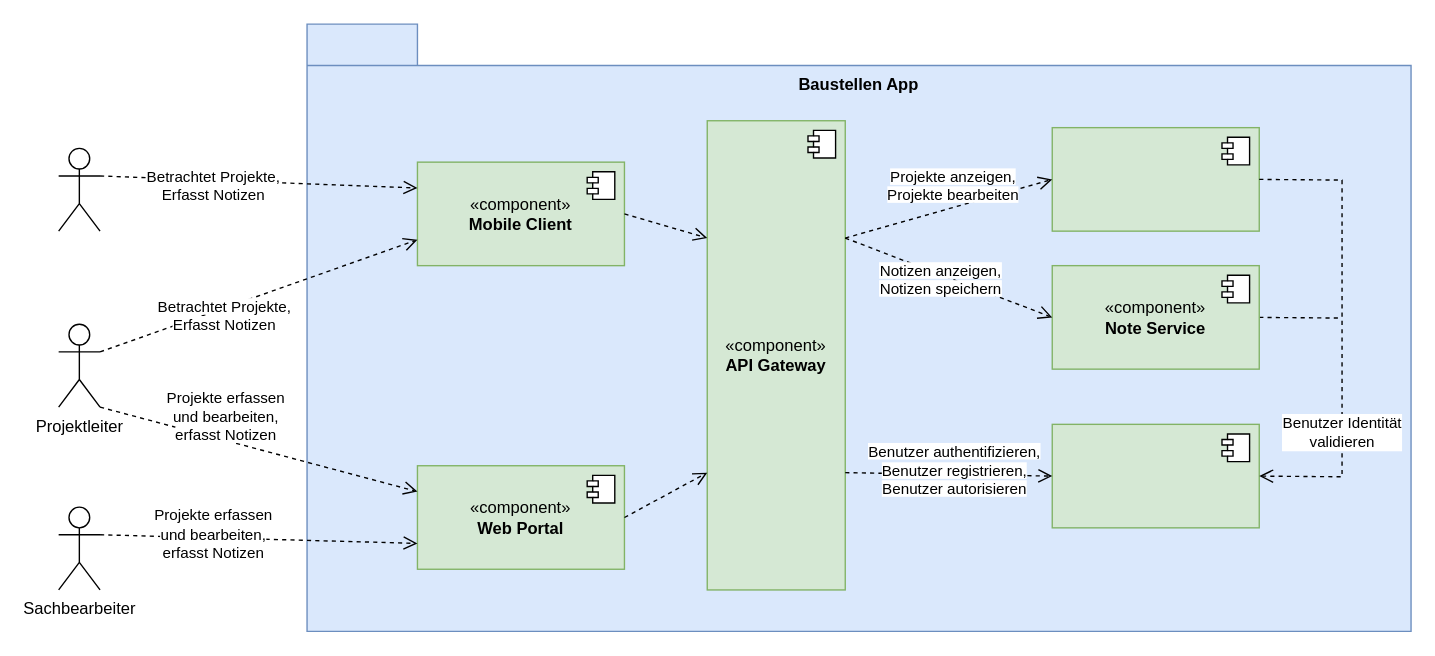
This 1435x656 diagram has some shape labels left out. The shapes that lost their labels are listed below. From the top down, each one's centre as x and y in pixels, then its label:
At point 78,189: "Mitarbeiter".
At point 1155,178: "«component» Project Service".
At point 1155,475: "«component» Identity Service".
